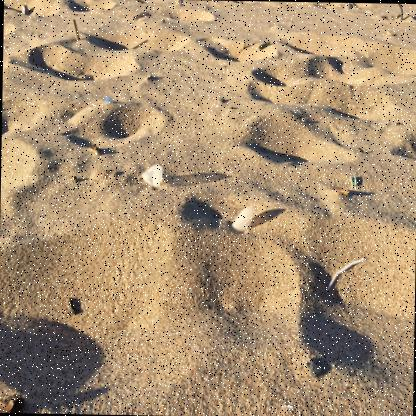Other plastic bottle: (326, 257, 364, 291), (230, 205, 256, 232), (350, 175, 356, 186), (104, 95, 113, 102)
Plastic film: (141, 163, 162, 187)
